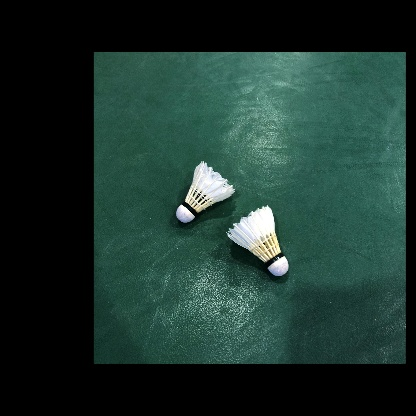ball_single: (226, 205, 289, 276), (176, 161, 235, 223)
